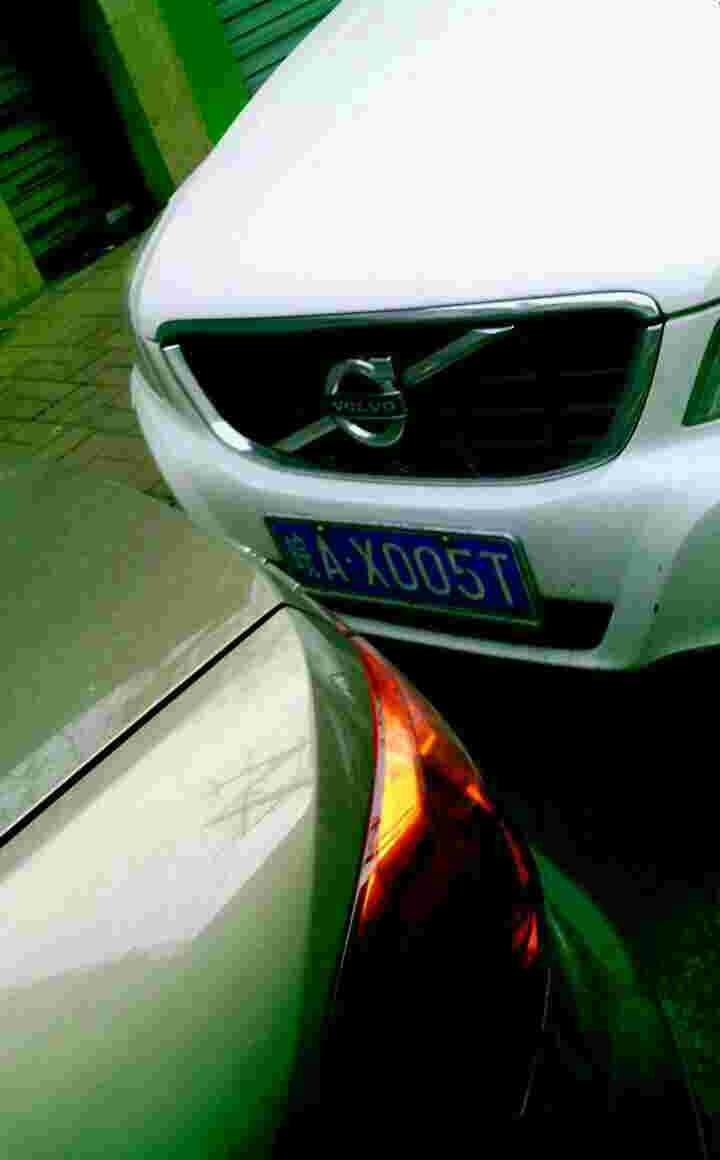license_plate: (275, 526, 527, 616)
